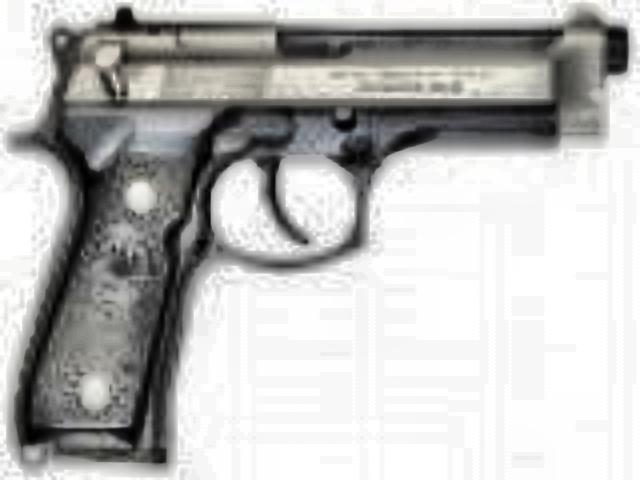pistol: (0, 4, 612, 460)
